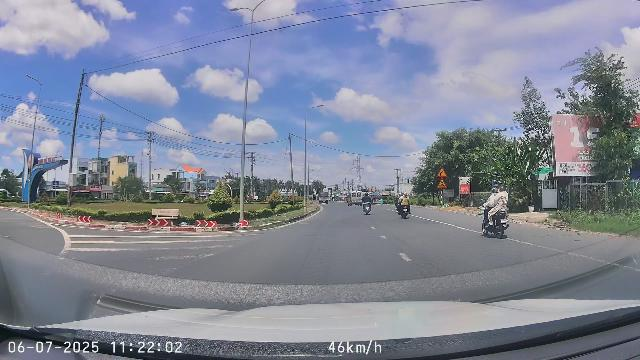201-cho-ngoat-nguy-hiem: (436, 166, 448, 178)
224-duong-nguoi-di-bo-cat-ngang: (436, 178, 447, 189)
